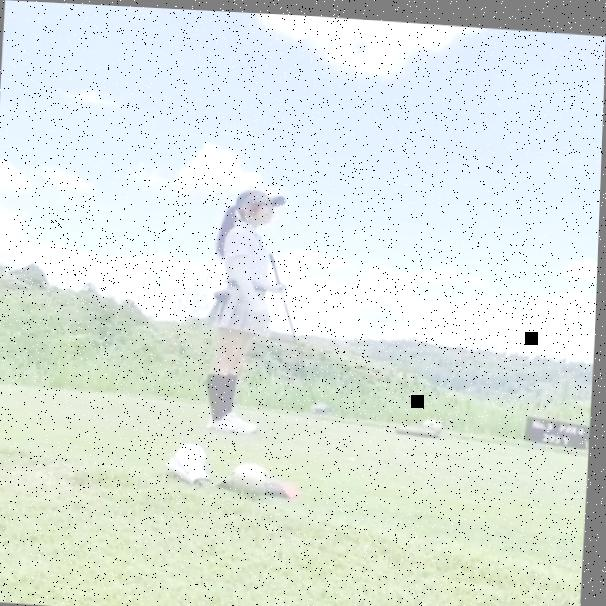ClubHead: (313, 399, 335, 411)
